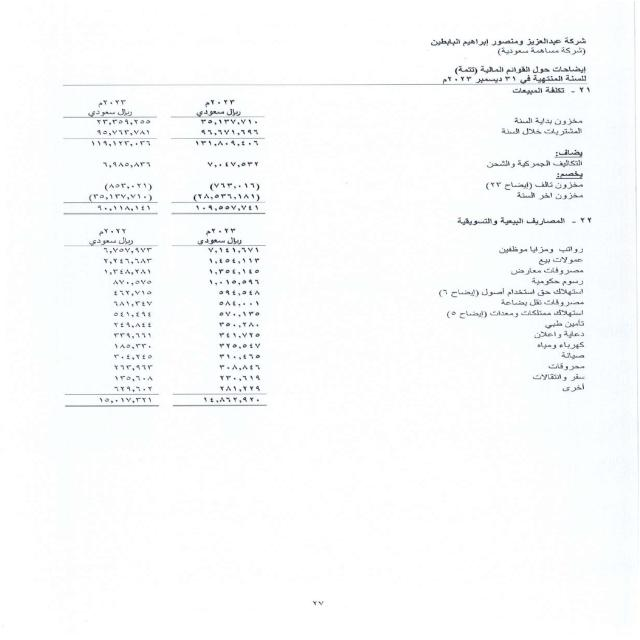notes: (430, 65, 598, 74)
table: (23, 220, 277, 418), (34, 86, 270, 215)
